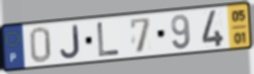0: (28, 26, 53, 65)
4: (201, 9, 226, 49)
7: (129, 17, 152, 55)
9: (170, 13, 192, 51)
J: (59, 24, 82, 60)
L: (95, 21, 122, 59)
